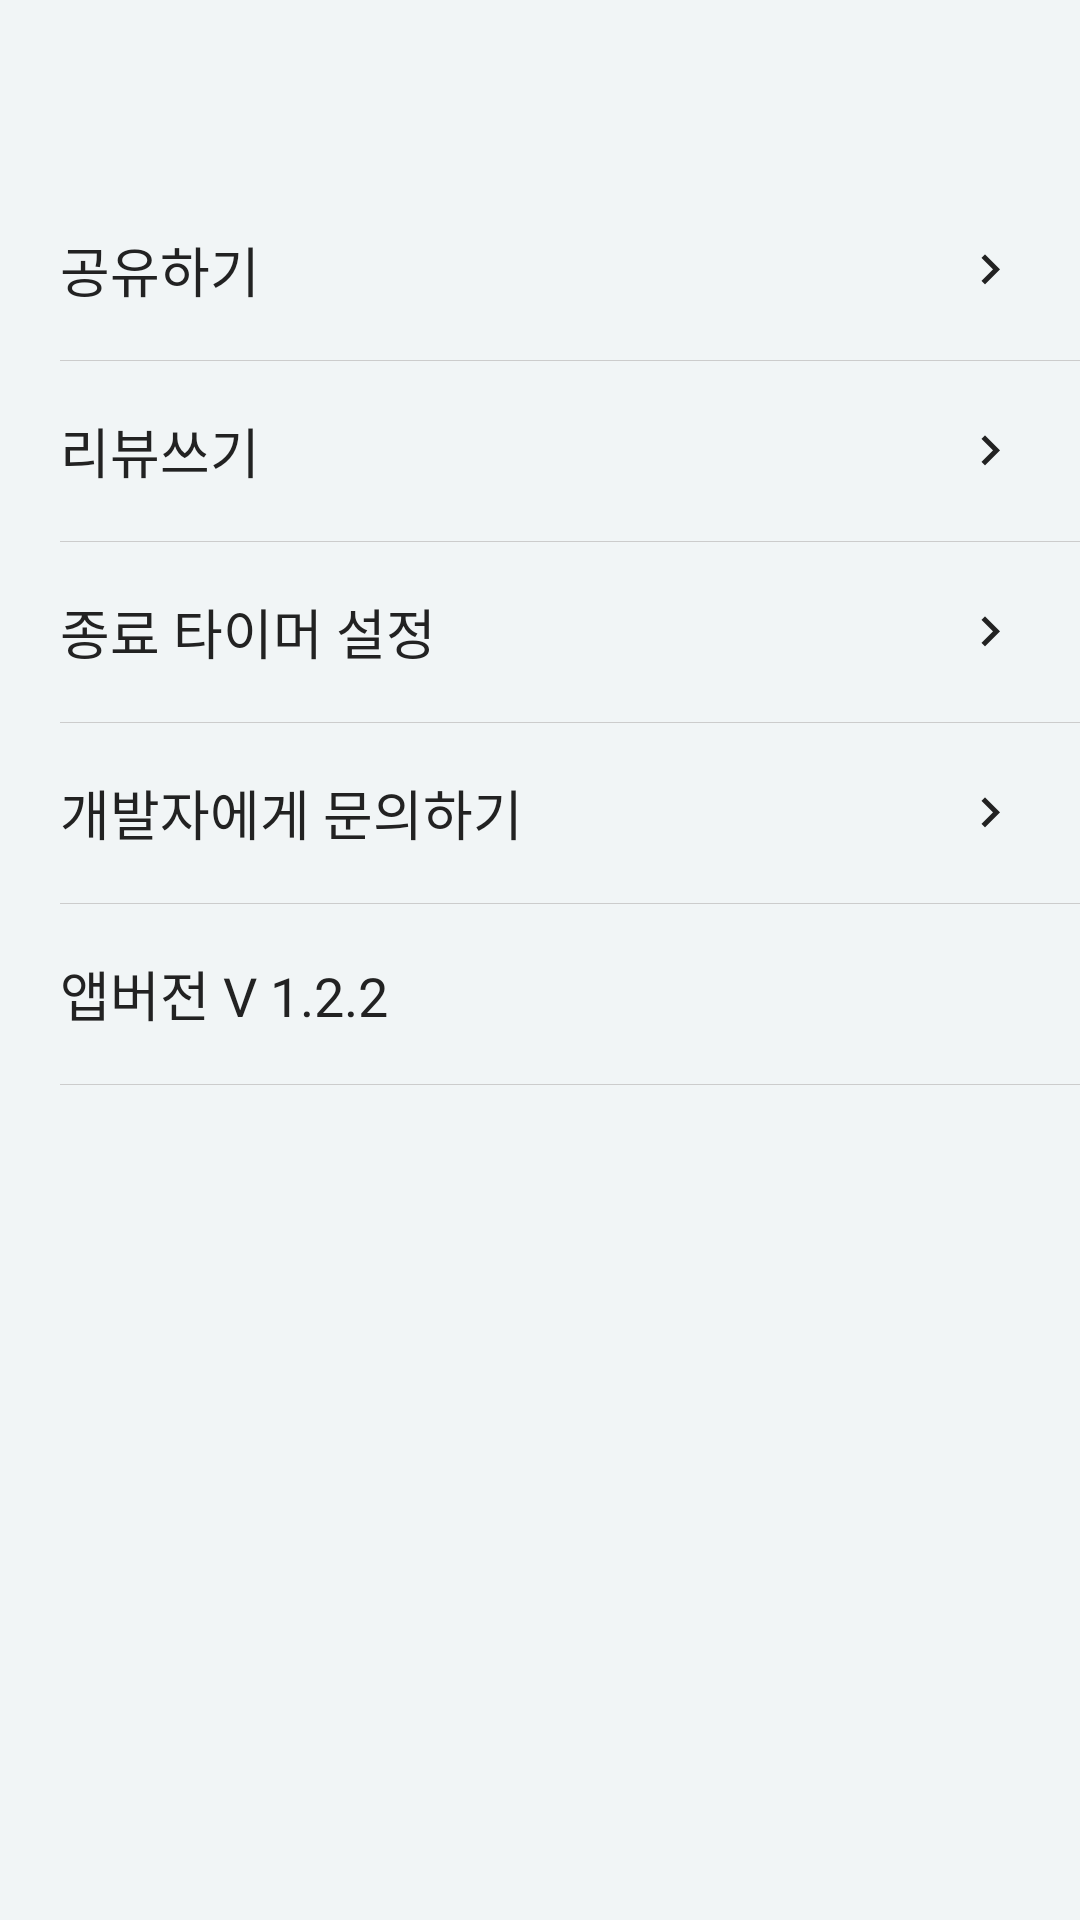

Named icons in this screenshot (1080×1920) and their centers, point (x, y):
keyboard arrow right: point (990, 269), point (990, 450), point (990, 631), point (990, 812)
